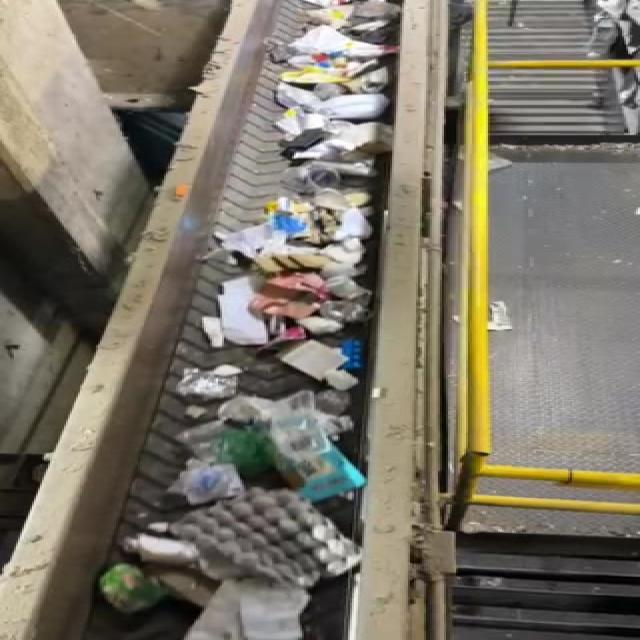pp: (258, 397, 372, 490), (160, 353, 250, 410), (95, 561, 175, 618), (332, 333, 374, 372)
ps: (185, 489, 356, 587), (257, 329, 346, 386)
